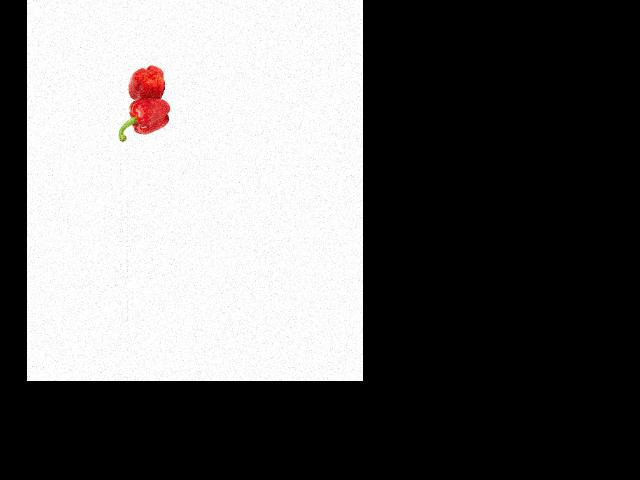bell_pepper: (126, 65, 167, 100)
